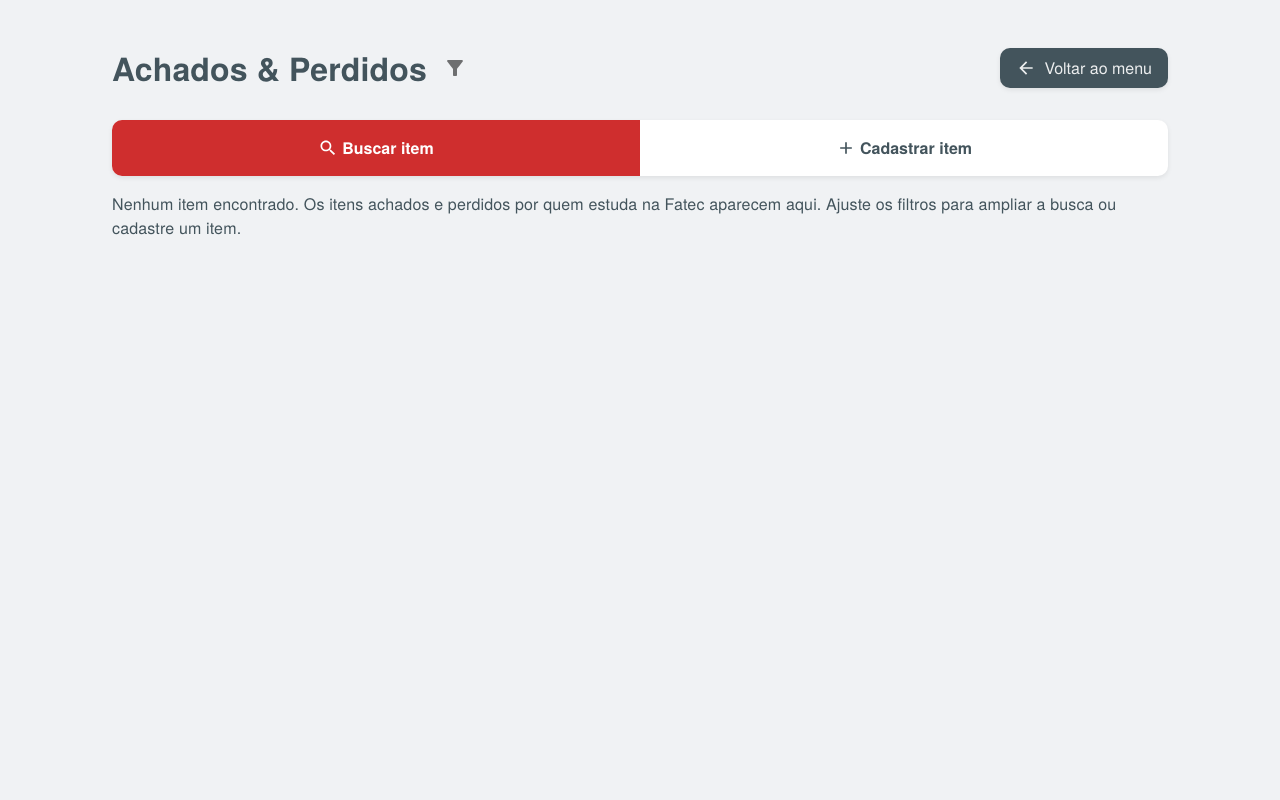
LostAndFound › should ask the api again with what the filter asked for
expect the text "Nenhum item encontrado. Os itens achados e perdidos por quem estuda na Fatec aparecem aqui. Ajuste os filtros para ampli" is shown: met, box [112,192,1116,239]
Click the button named "Filtros" at (455, 68), box [435,48,475,88]
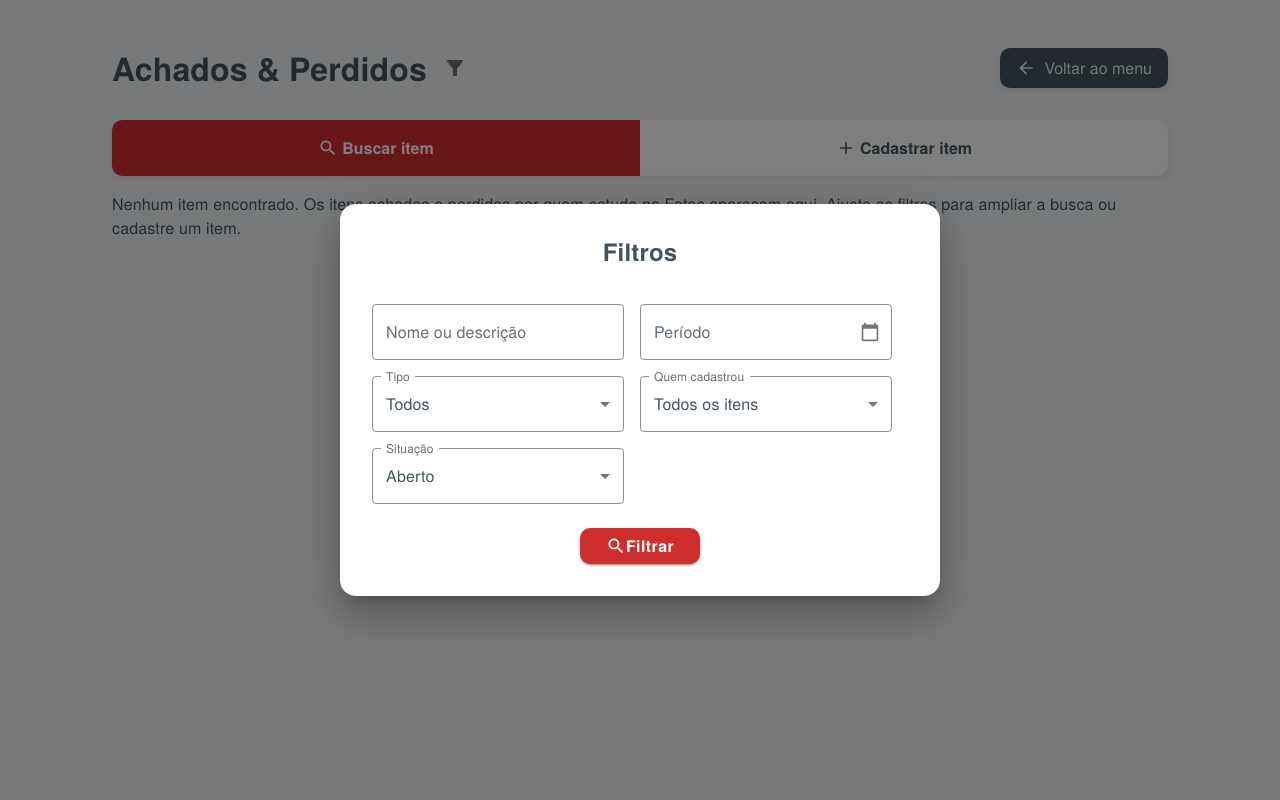
expect the dialog is shown: met, box [340,204,940,596]
Type "Carteira" into the field labelled "Nome ou descrição" at (498, 332), box [372,304,624,360]
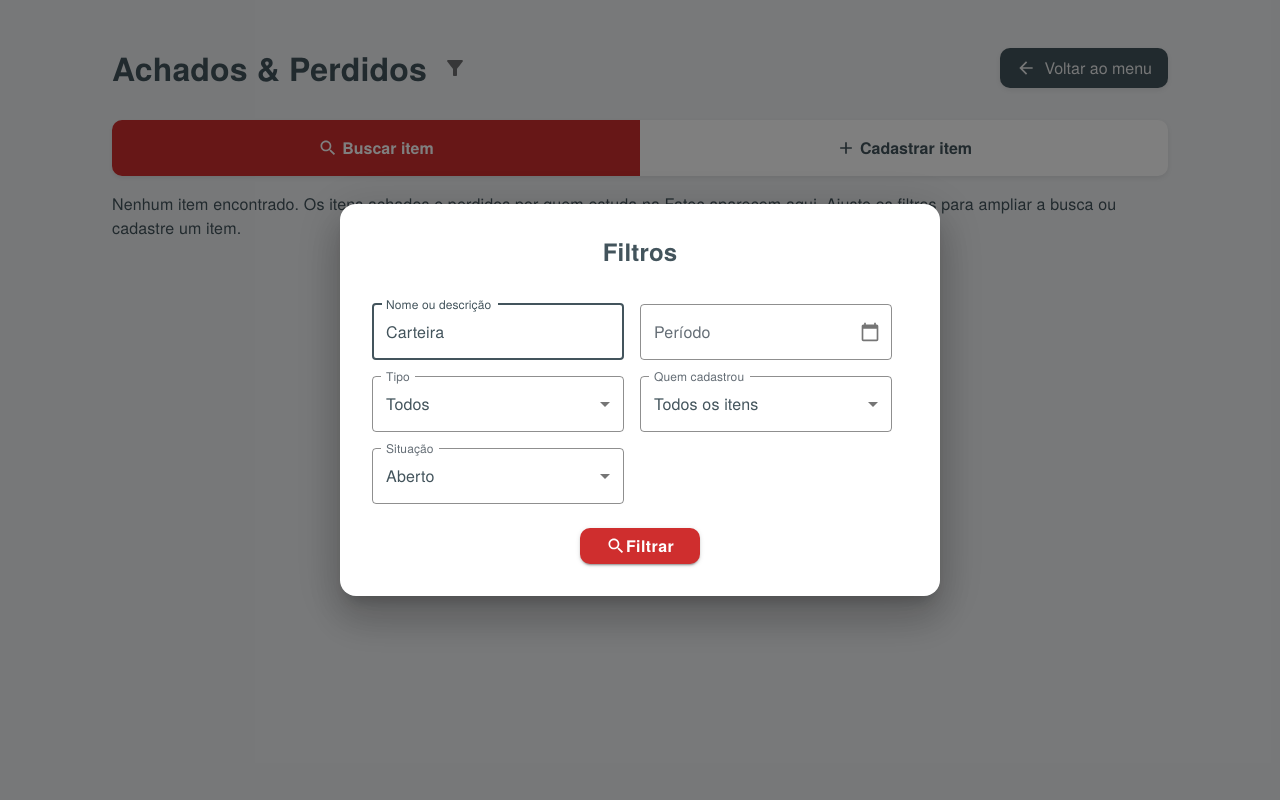
Click the button "Filtrar" at (640, 546), box [580,528,700,564]
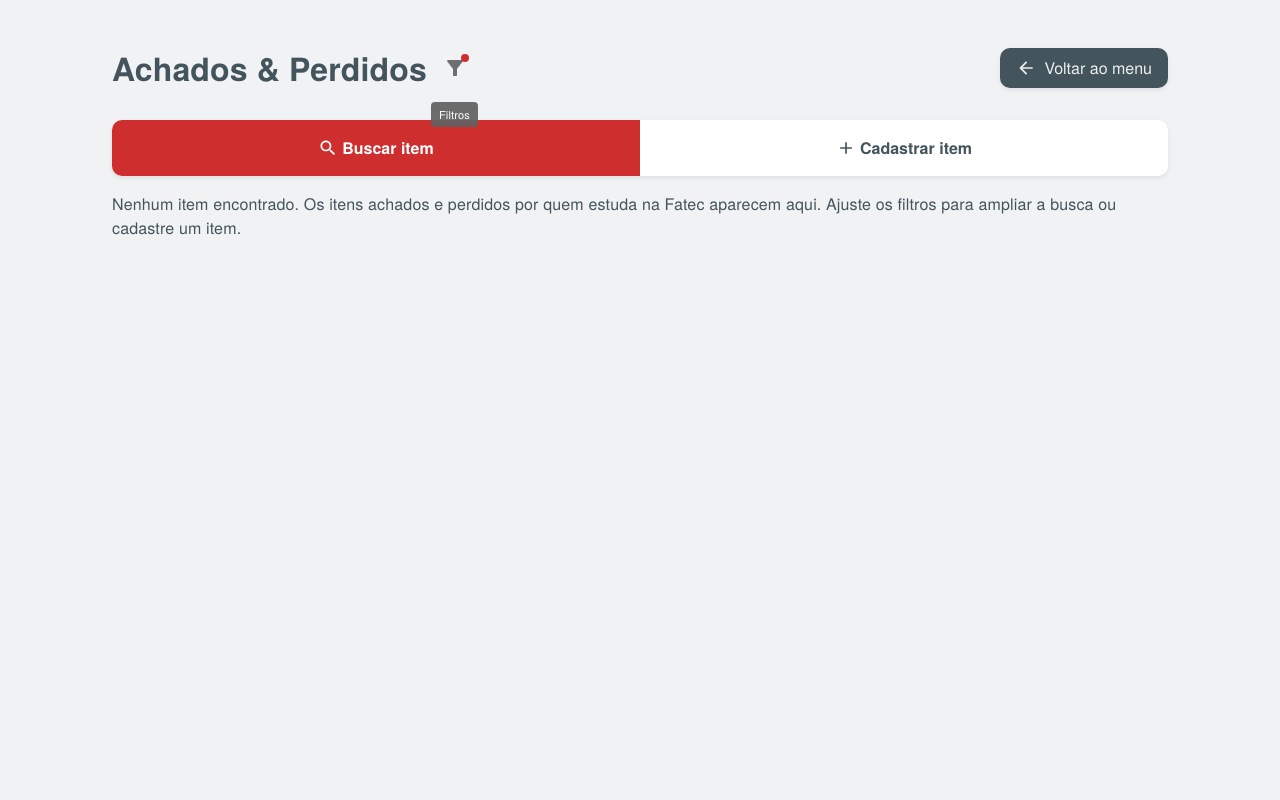
expect the dialog is gone: met
